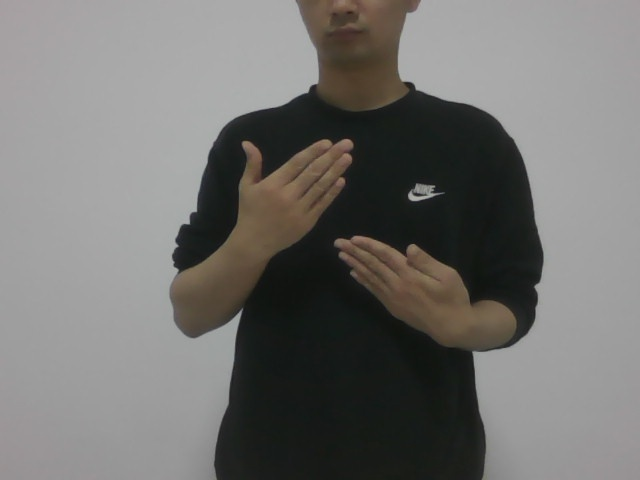have: (220, 127, 467, 344)
